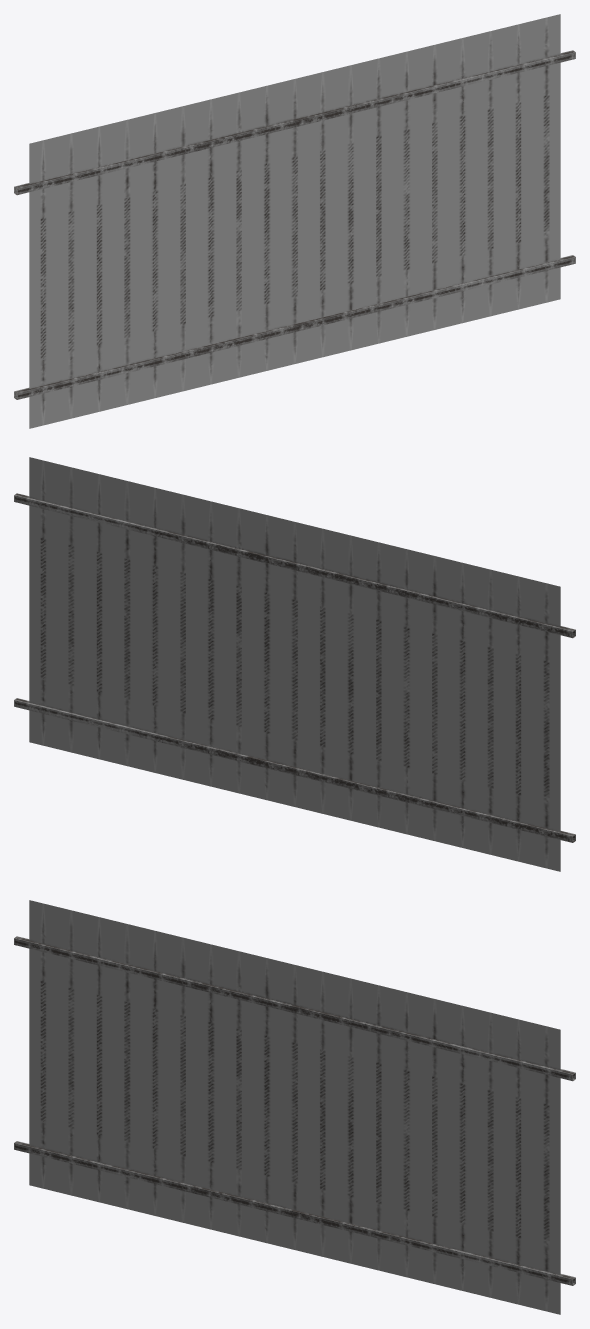
The model's file is Metal Fence 2 LOD.fbx.
The picture shows the model from 3 angles, top to bottom: view 1: azimuth 30°, elevation 25°; view 2: azimuth 150°, elevation 25°; view 3: azimuth 330°, elevation 25°; orthographic projection.
Parts seen in each view (by area): view 1: Metal Fence 2 LOD; view 2: Metal Fence 2 LOD; view 3: Metal Fence 2 LOD.
Boxes of the visible parts, left/top/right/bottom form: Metal Fence 2 LOD: left=14, top=14, right=575, bottom=428; Metal Fence 2 LOD: left=14, top=457, right=575, bottom=871; Metal Fence 2 LOD: left=14, top=900, right=575, bottom=1314.
Size of the model in its own units: 400 by 195 by 3.57.
1 material, 1 textured.
